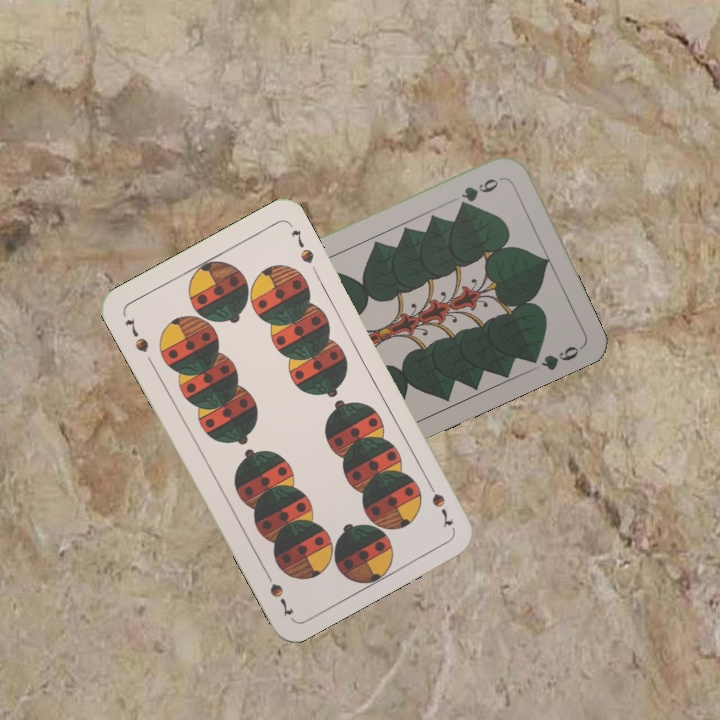G9: (455, 173, 506, 210)
S7: (422, 475, 456, 530), (120, 314, 152, 356)
